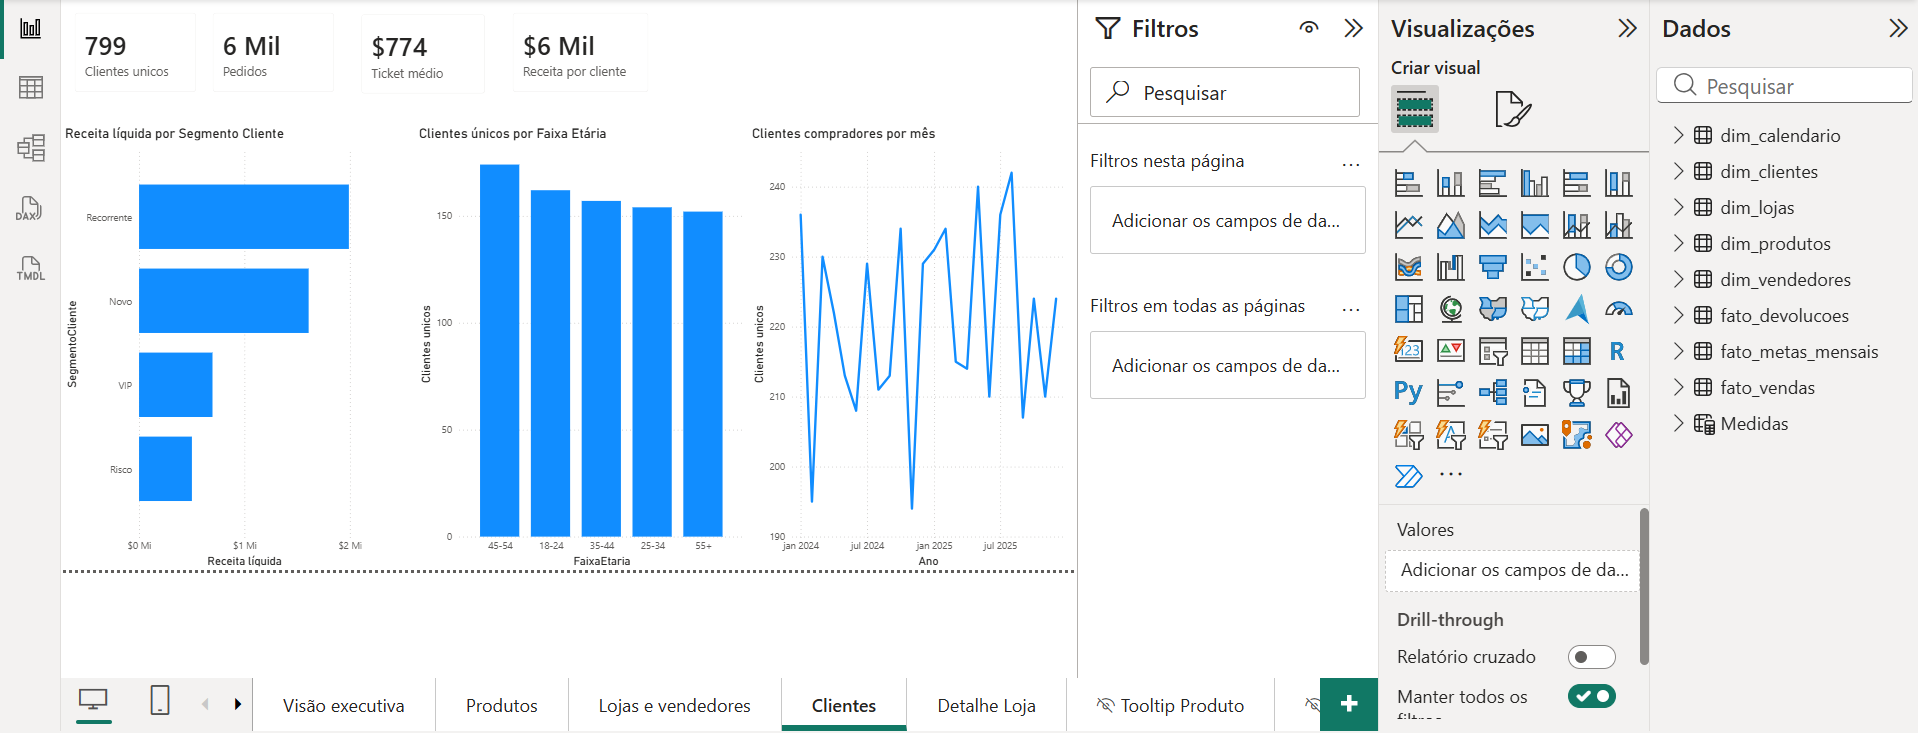

What the dashboard file says about the page in this screenshot:
{"tool":"powerbi","page":{"name":"Clientes","canvas":[1280,720],"ordinal":3},"visuals":[{"type":"cardVisual","fields":{"Data":["Medidas.Receita por cliente"]},"box":[551.8,0,206,134.2],"z":0},{"type":"cardVisual","fields":{"Data":["Medidas.Clientes unicos"]},"box":[0,0,187.1,134.2],"z":1000},{"type":"cardVisual","fields":{"Data":["Medidas.Ticket médio"]},"box":[360.9,1.9,190.9,134.2],"z":2000},{"type":"cardVisual","fields":{"Data":["Medidas.Pedidos"]},"box":[173.9,0,187.1,134.2],"z":3000},{"type":"barChart","title":"Receita líquida por Segmento Cliente","fields":{"Y":["Medidas.Receita líquida"],"Category":["dim_clientes.SegmentoCliente"]},"box":[0,158.7,383.6,561.3],"z":4000},{"type":"columnChart","title":"Clientes únicos por Faixa Etária","fields":{"Y":["Medidas.Clientes unicos"],"Category":["dim_clientes.FaixaEtaria"]},"box":[446,158.7,419.5,561.3],"z":5000},{"type":"lineChart","title":"Clientes compradores por mês","fields":{"Category":["dim_calendario.AnoMes.Variation.Hierarquia de datas.Ano","dim_calendario.AnoMes.Variation.Hierarquia de datas.Mês"],"Y":["Medidas.Clientes unicos"]},"box":[865.5,158.7,413.9,561.3],"z":6000}]}

Visuals, with their boxes on the page's 1280x720 design canvas (x1, y1, x2, y2). These are canvas units, not pixel positions in the 1918x733 screenshot, which may show the page scaled, cropped or inside an application window:
cardVisual - Medidas.Receita por cliente: {"x1": 552, "y1": 0, "x2": 758, "y2": 134}
cardVisual - Medidas.Clientes unicos: {"x1": 0, "y1": 0, "x2": 187, "y2": 134}
cardVisual - Medidas.Ticket médio: {"x1": 361, "y1": 2, "x2": 552, "y2": 136}
cardVisual - Medidas.Pedidos: {"x1": 174, "y1": 0, "x2": 361, "y2": 134}
"Receita líquida por Segmento Cliente" barChart: {"x1": 0, "y1": 159, "x2": 384, "y2": 720}
"Clientes únicos por Faixa Etária" columnChart: {"x1": 446, "y1": 159, "x2": 866, "y2": 720}
"Clientes compradores por mês" lineChart: {"x1": 866, "y1": 159, "x2": 1279, "y2": 720}
